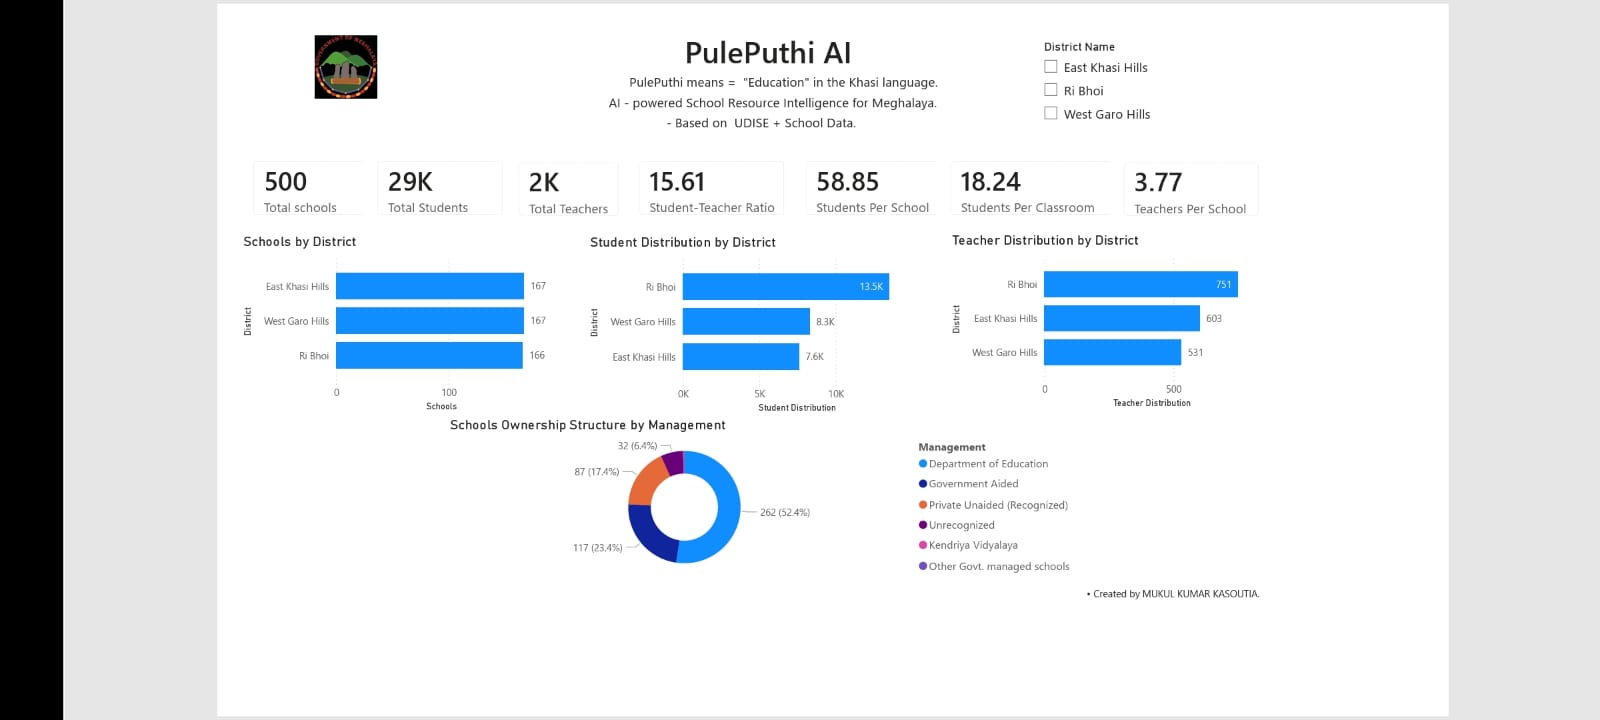

The page's visual inventory and layout, read from the dashboard file:
{"tool":"powerbi","page":{"name":"Education Overview","canvas":[1280,720],"ordinal":0},"visuals":[{"type":"cardVisual","fields":{"Data":["meghalaya.Total schools"]},"box":[0,150.6,178.2,100],"z":0},{"type":"cardVisual","fields":{"Data":["meghalaya.Total Students"]},"box":[154,150.6,189.7,100],"z":1000},{"type":"cardVisual","fields":{"Data":["meghalaya.Total Teachers"]},"box":[328.7,151.7,158.6,100],"z":2000},{"type":"cardVisual","fields":{"Data":["meghalaya.Student Teacher Ratio"]},"box":[478.2,150.6,214.9,100],"z":3000},{"type":"clusteredBarChart","fields":{"Category":["meghalaya.district_name"],"Y":["Count(meghalaya.school_name)"]},"box":[0,256.3,396.6,226.4],"z":4000},{"type":"clusteredBarChart","fields":{"Y":["Sum(meghalaya.class_students)"],"Category":["meghalaya.district_name"]},"box":[430.2,257,418.6,226.7],"z":5000},{"type":"clusteredBarChart","fields":{"Category":["meghalaya.district_name"],"Y":["meghalaya.Total Teachers"]},"box":[878.2,255.2,401.1,223],"z":6000},{"type":"cardVisual","fields":{"Data":["meghalaya.Students Per School"]},"box":[685.1,150.6,204.6,100],"z":7000},{"type":"cardVisual","fields":{"Data":["meghalaya.Students Per Classroom"]},"box":[864.4,150.6,242.5,100],"z":8000},{"type":"donutChart","fields":{"Category":["meghalaya.management"],"Y":["Count(meghalaya.school_name)"]},"box":[256.3,483.9,787.4,205.7],"z":9000},{"type":"cardVisual","fields":{"Data":["meghalaya.Teachers Per School"]},"box":[1079.3,151.7,201.1,100],"z":10000},{"type":"textbox","box":[54,1.1,849.4,149.4],"z":11000},{"type":"image","box":[93,11.6,76.7,77.9],"z":12000},{"type":"slicer","fields":{"Values":["meghalaya.district_name"]},"box":[985.6,12.6,172.3,122.9],"z":13000},{"type":"textbox","box":[1036,689.5,244.2,30.2],"z":14000}]}

Visuals, with their boxes on the page's 1280x720 design canvas (x1, y1, x2, y2). These are canvas units, not pixel positions in the 1600x720 screenshot, which may show the page scaled, cropped or inside an application window:
cardVisual - meghalaya.Total schools: bbox=[0, 151, 178, 251]
cardVisual - meghalaya.Total Students: bbox=[154, 151, 344, 251]
cardVisual - meghalaya.Total Teachers: bbox=[329, 152, 487, 252]
cardVisual - meghalaya.Student Teacher Ratio: bbox=[478, 151, 693, 251]
clusteredBarChart - meghalaya.district_name x Count(meghalaya.school_name): bbox=[0, 256, 397, 483]
clusteredBarChart - Sum(meghalaya.class_students) x meghalaya.district_name: bbox=[430, 257, 849, 484]
clusteredBarChart - meghalaya.district_name x meghalaya.Total Teachers: bbox=[878, 255, 1279, 478]
cardVisual - meghalaya.Students Per School: bbox=[685, 151, 890, 251]
cardVisual - meghalaya.Students Per Classroom: bbox=[864, 151, 1107, 251]
donutChart - meghalaya.management x Count(meghalaya.school_name): bbox=[256, 484, 1044, 690]
cardVisual - meghalaya.Teachers Per School: bbox=[1079, 152, 1280, 252]
textbox: bbox=[54, 1, 903, 150]
image: bbox=[93, 12, 170, 90]
slicer - meghalaya.district_name: bbox=[986, 13, 1158, 136]
textbox: bbox=[1036, 690, 1280, 720]
